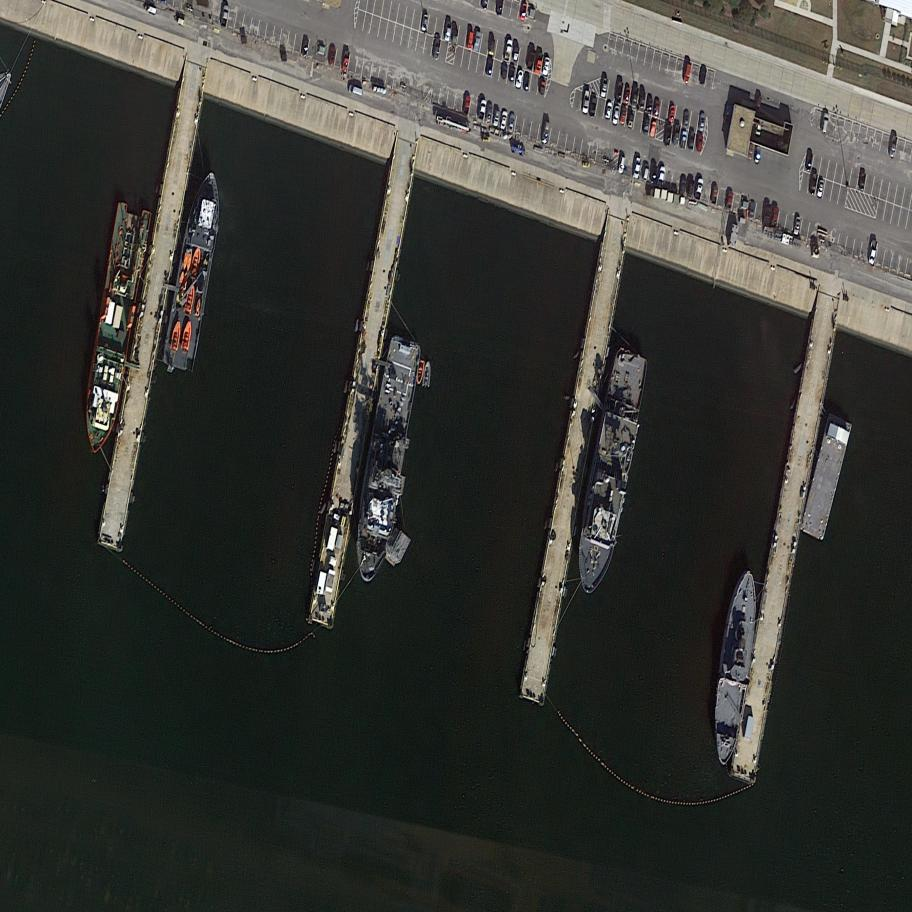ship: (347, 334, 428, 590), (572, 346, 652, 601), (77, 198, 154, 457), (159, 165, 230, 382), (700, 567, 765, 768), (798, 415, 852, 540), (178, 319, 195, 353), (182, 284, 199, 317), (188, 246, 204, 281), (168, 317, 183, 352), (421, 360, 433, 389), (415, 359, 425, 384), (192, 297, 203, 319), (181, 272, 189, 293), (177, 270, 185, 291), (186, 251, 192, 270), (183, 251, 189, 269)
small-vehicle: (865, 238, 880, 267), (887, 135, 900, 160), (662, 123, 675, 148), (532, 51, 545, 75), (218, 5, 231, 29), (807, 171, 819, 197), (631, 155, 643, 181), (502, 38, 514, 63), (580, 90, 592, 115), (346, 83, 366, 98), (818, 112, 831, 135), (431, 33, 442, 60), (693, 177, 705, 201), (656, 165, 668, 189), (629, 84, 640, 110), (483, 101, 495, 124), (685, 129, 697, 152), (340, 48, 351, 73), (671, 123, 682, 148), (525, 48, 536, 72), (517, 0, 529, 22), (483, 55, 495, 77), (491, 107, 503, 129), (588, 95, 599, 119), (298, 37, 310, 59), (722, 104, 734, 126), (461, 93, 472, 116), (477, 98, 488, 121), (599, 75, 610, 98), (613, 80, 624, 103), (762, 203, 773, 226), (815, 176, 826, 199), (746, 199, 757, 222), (856, 172, 868, 193), (666, 103, 678, 124), (514, 68, 525, 90), (648, 163, 659, 185), (443, 20, 454, 42), (769, 206, 780, 228), (678, 129, 689, 151), (682, 61, 692, 85), (498, 110, 509, 131), (326, 45, 337, 66), (792, 215, 803, 236), (697, 65, 708, 86), (541, 55, 551, 78), (611, 103, 621, 126), (541, 121, 551, 144), (617, 154, 627, 177), (473, 30, 483, 52), (603, 101, 614, 121), (420, 13, 431, 33), (804, 151, 814, 173), (752, 145, 763, 165), (723, 190, 734, 210), (681, 109, 692, 129), (677, 176, 688, 196), (507, 112, 517, 133), (618, 106, 628, 127), (641, 117, 652, 136), (638, 89, 647, 112), (499, 61, 509, 81), (622, 86, 632, 106), (694, 133, 704, 153), (653, 97, 662, 119), (753, 94, 763, 113), (685, 178, 695, 197), (536, 79, 547, 96), (511, 45, 521, 63), (487, 37, 496, 57), (466, 30, 475, 50), (698, 112, 707, 132), (641, 163, 650, 183), (142, 3, 158, 14), (522, 71, 531, 90), (507, 64, 516, 83), (710, 184, 719, 203), (649, 120, 658, 139), (626, 113, 636, 130), (645, 96, 654, 114), (747, 143, 756, 160)
